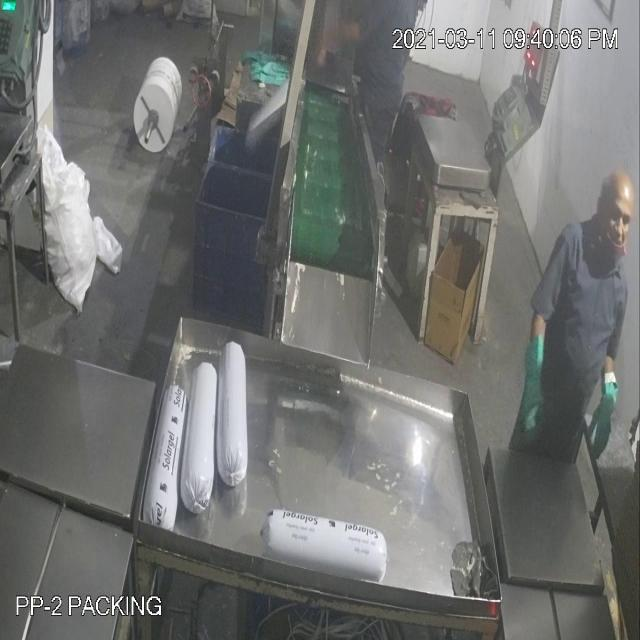gloves: (518, 318, 554, 460)
